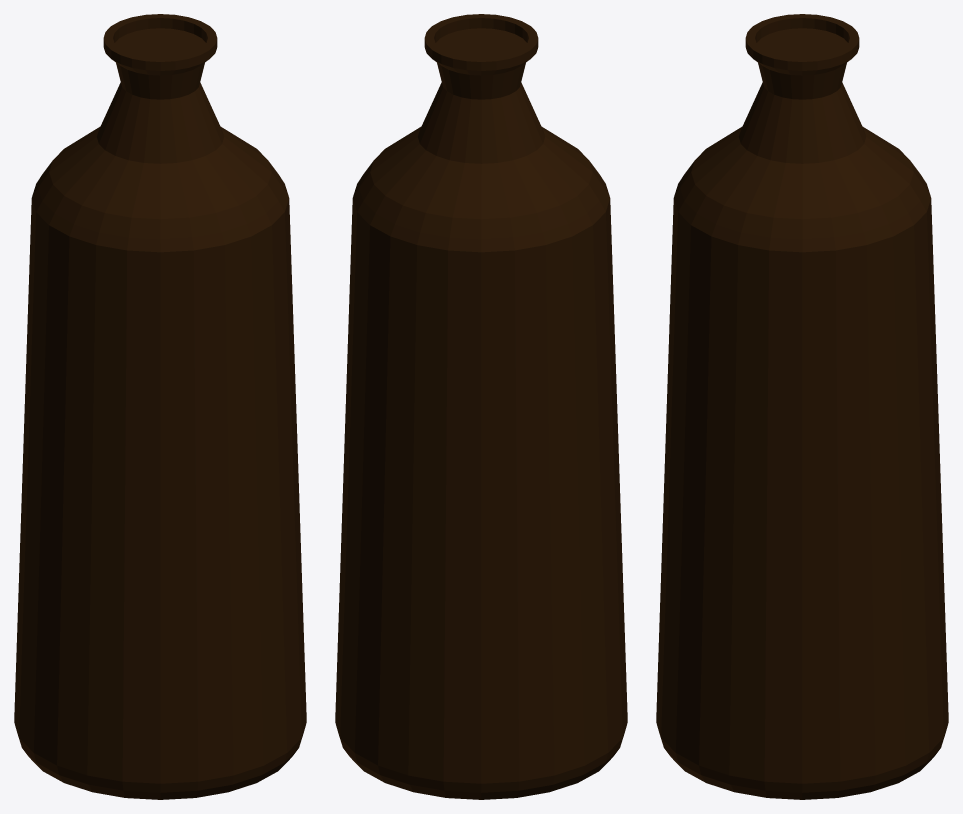
3 renders of one model, left to right at view 1: azimuth 30°, elevation 25°; view 2: azimuth 150°, elevation 25°; view 3: azimuth 270°, elevation 25°, orthographic.
Visible parts, largest first — view 1: mesh1.001_mesh1-geometry; view 2: mesh1.001_mesh1-geometry; view 3: mesh1.001_mesh1-geometry.
Part boxes in pixels (x1,y1,x2,y2): mesh1.001_mesh1-geometry: (14, 14, 306, 799); mesh1.001_mesh1-geometry: (335, 14, 627, 799); mesh1.001_mesh1-geometry: (656, 14, 948, 799).
Bounding box in the file's own units: 0.3323 × 0.8827 × 0.3323.
